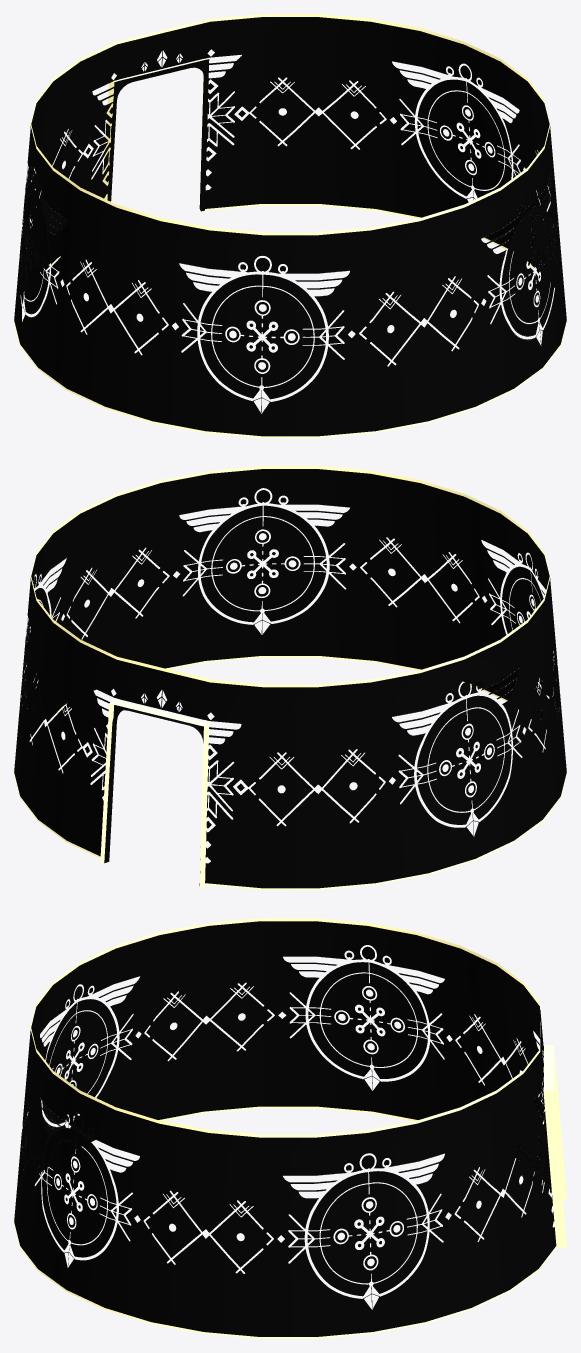
Rendered from wall_pattern.glb.
The picture shows the model from 3 angles, top to bottom: view 1: azimuth 30°, elevation 25°; view 2: azimuth 150°, elevation 25°; view 3: azimuth 270°, elevation 25°; orthographic projection.
Visible parts, largest first — view 1: wall_pattern; view 2: wall_pattern; view 3: wall_pattern.
Boxes of the visible parts, box(x1,y1,x2,y2) form: wall_pattern: box(14, 14, 566, 437); wall_pattern: box(14, 466, 566, 889); wall_pattern: box(14, 918, 566, 1338).
Size of what is drawn, in the model's own units: 20.05 by 8.03 by 20.32.
Materials: 3 (2 with a texture image).
